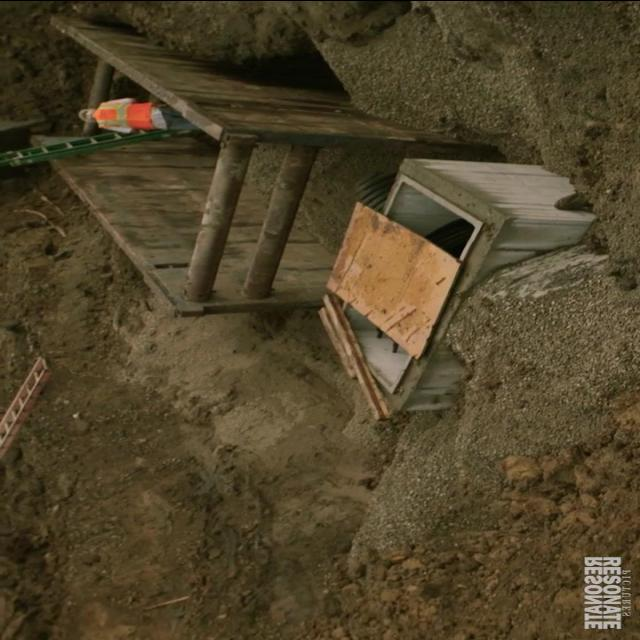helmet: (75, 100, 94, 122)
jacket: (96, 98, 156, 132)
